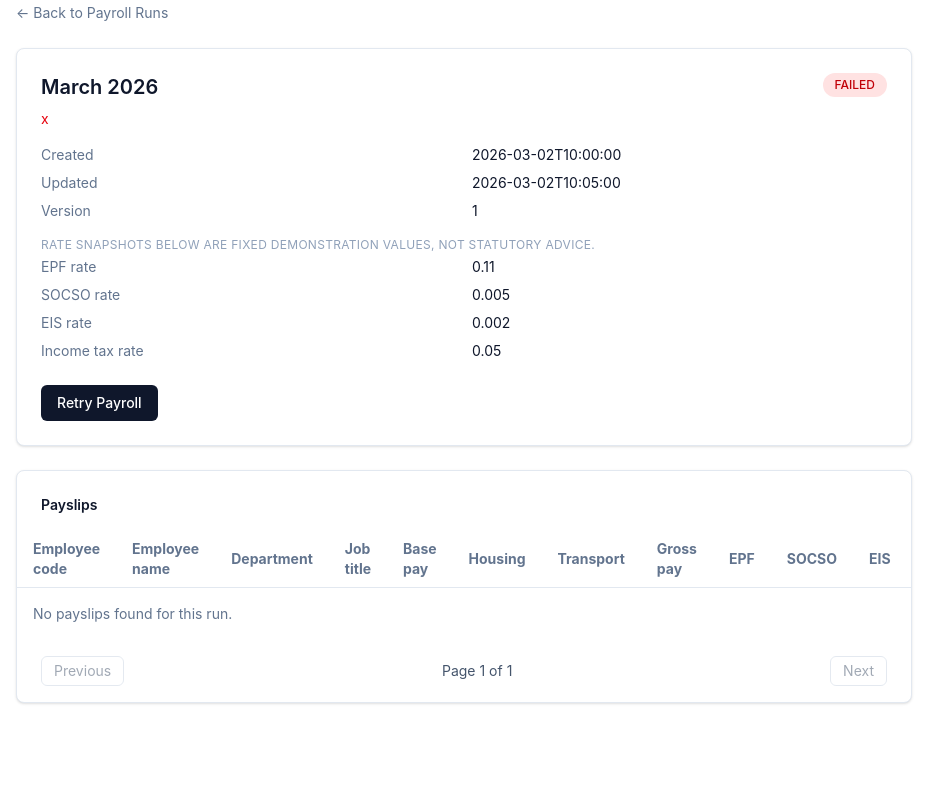
Test case: PayrollRunDetailPage › retry › shows the backend safe detail for a recognized retry error
Click the button "Retry Payroll" at {"x": 99, "y": 403}, box [41,385,158,421]
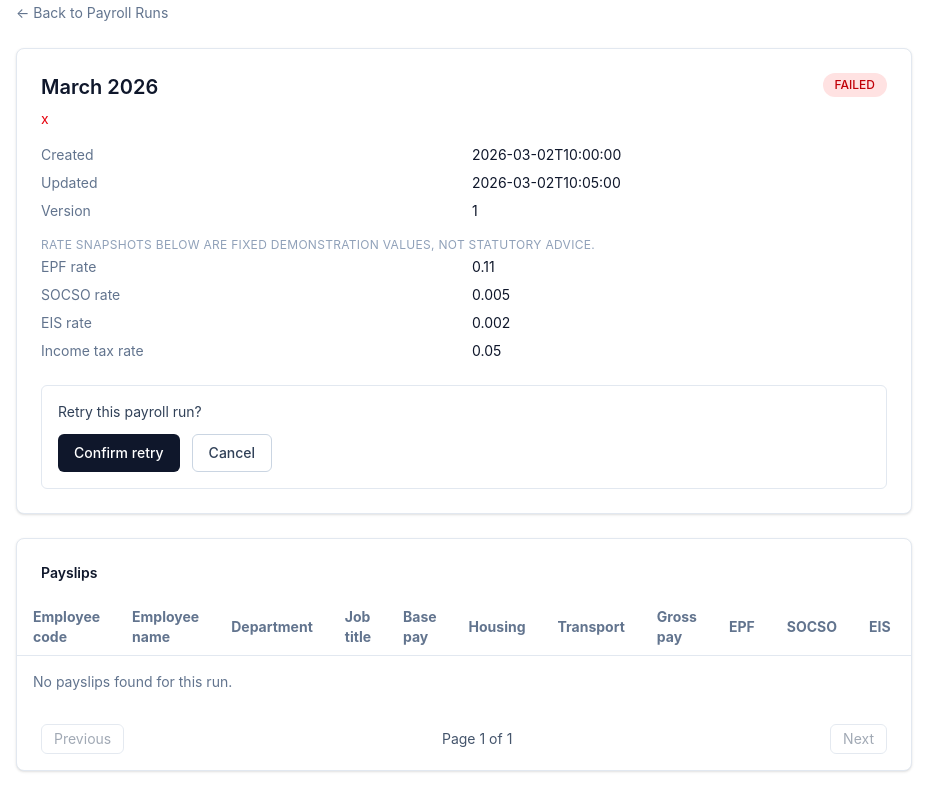
Click the button "Confirm retry" at {"x": 119, "y": 453}, box [58,434,180,472]
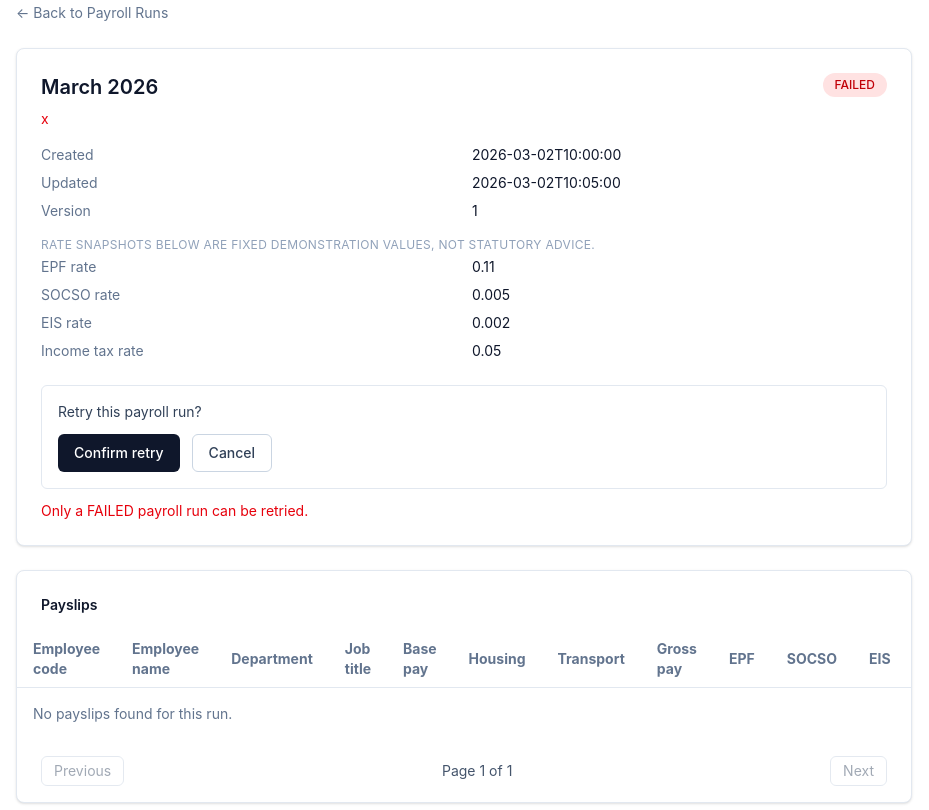
Expected: the text "Only a FAILED payroll run can be retried." is shown, [41,502,308,519]
